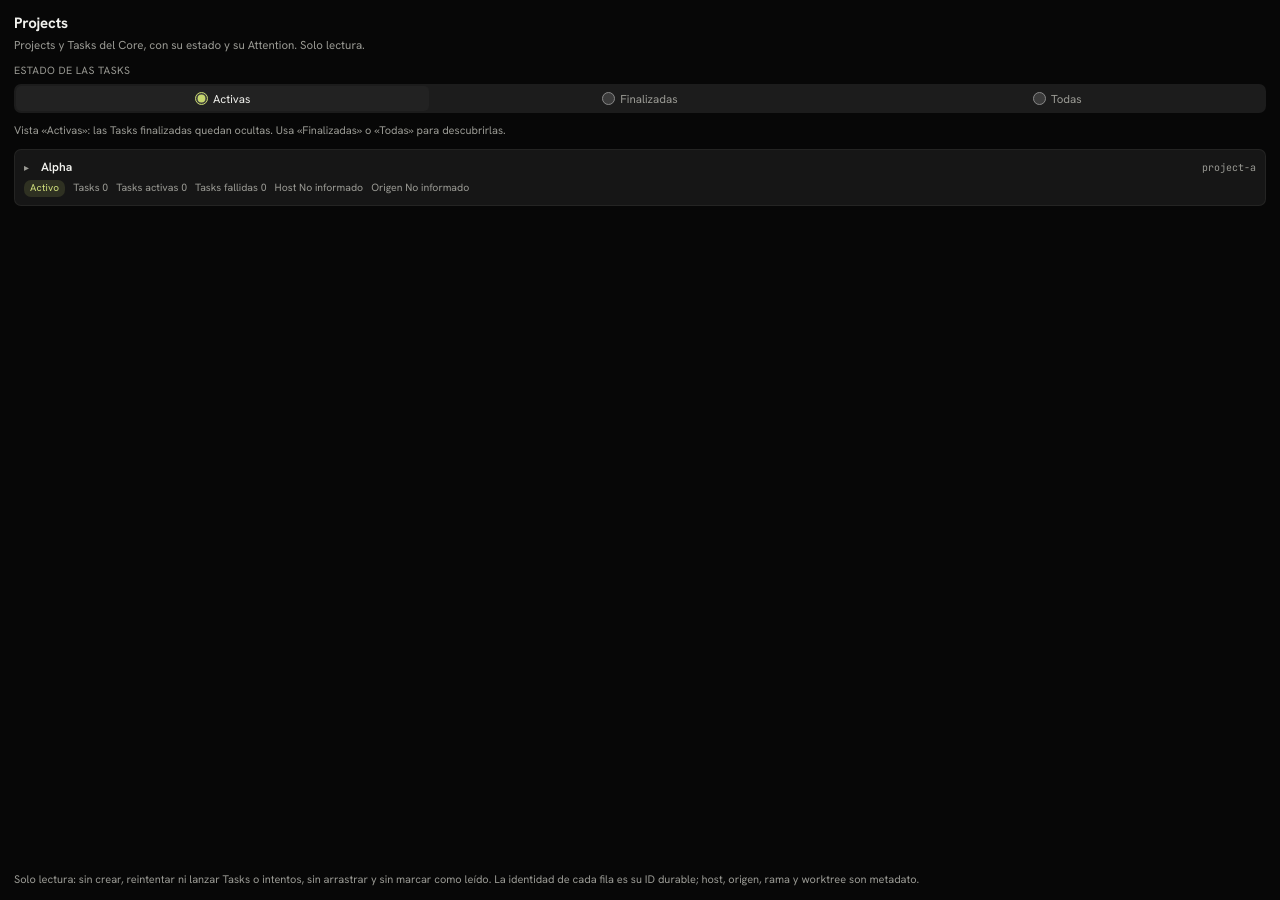
it: ProjectsSidebar › conserva las páginas como stale ante error de reconciliación y reintenta el cursor
Click the text "Alpha".
click(57, 167)  # box [41,159,72,175]
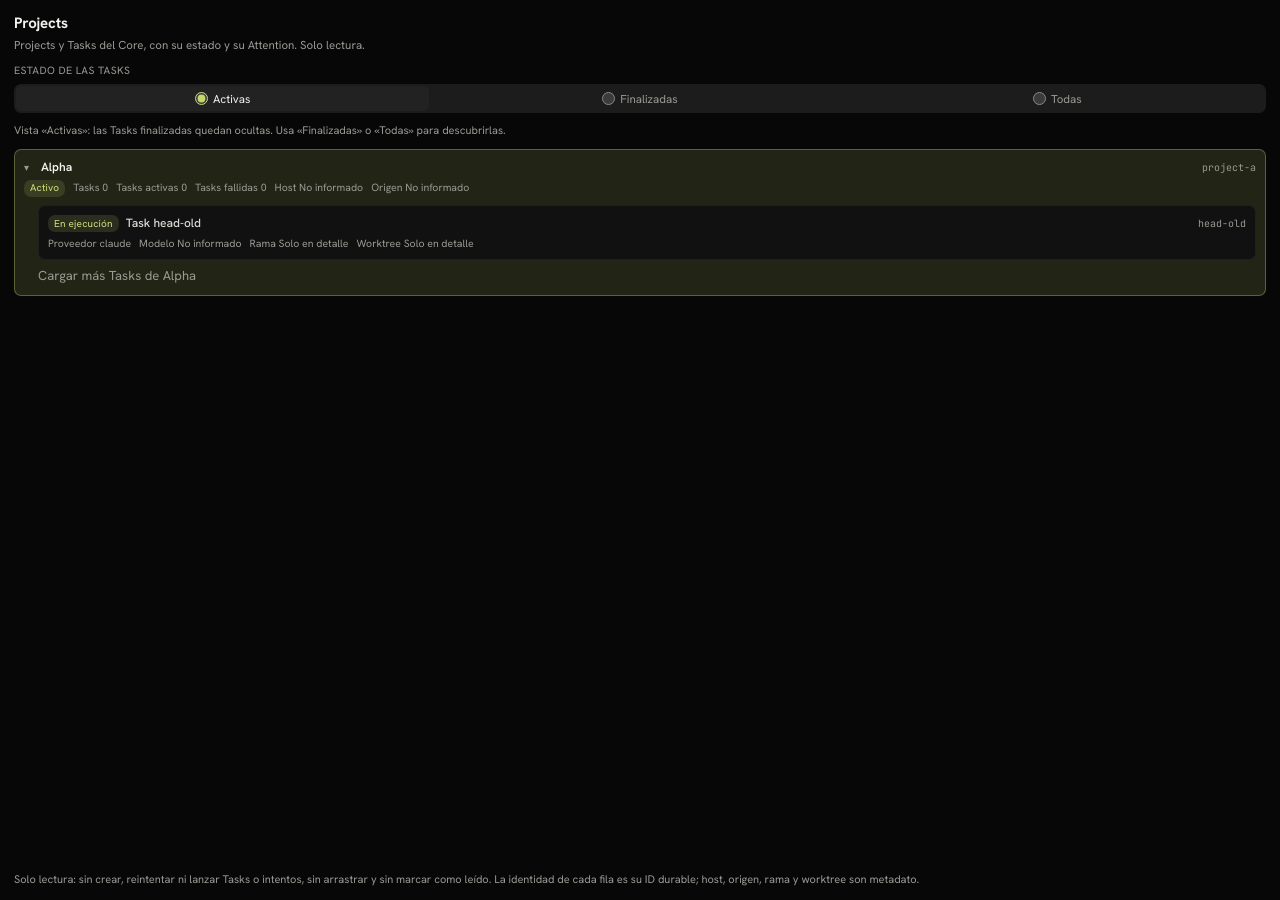
Click the button "Cargar más Tasks de Alpha".
click(117, 276)  # box [38,266,196,285]
Wait 1000 ms
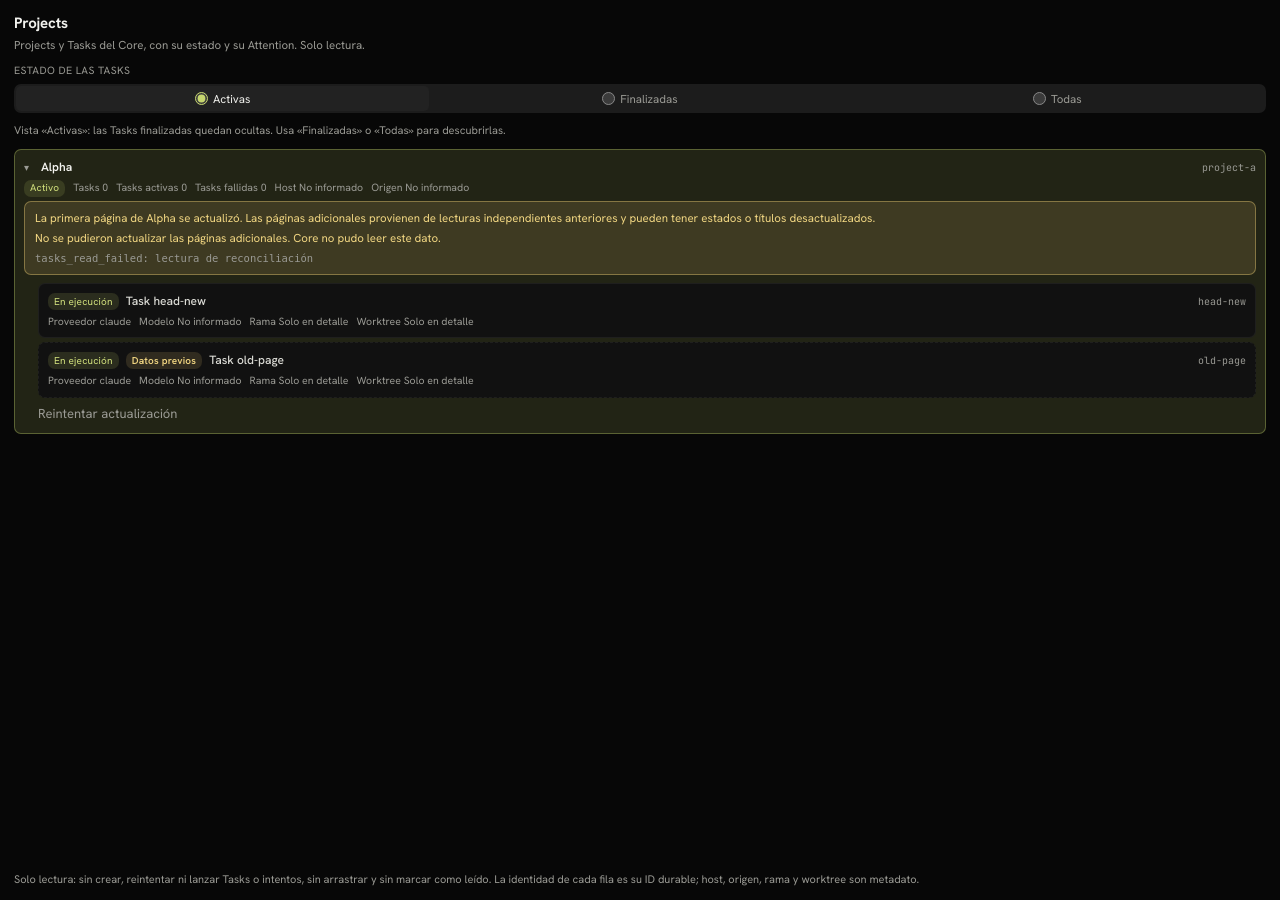
Now the message with test id "stale-task-pages-project-a" shows "tasks_read_failed", box [35,252,313,264]
Now the text "Task old-page" is shown, box [209,352,284,368]
Click the button with aria-label "Reintentar actualización de páginas de Tasks de Alpha".
click(108, 413)  # box [38,404,178,423]
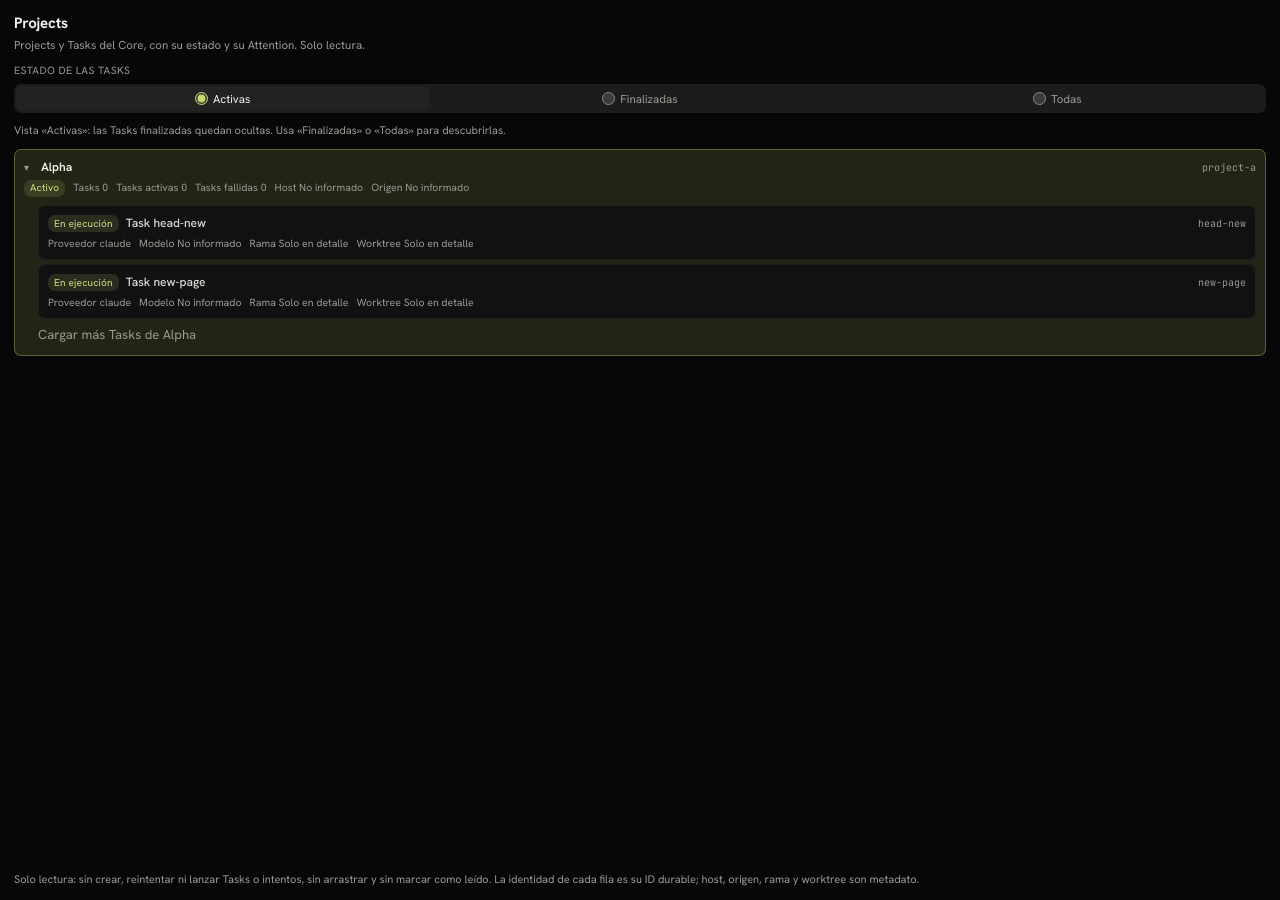
Now the text "Task new-page" is shown, box [126,274,206,290]
Now the text "Task old-page" is gone
Now the message with test id "stale-task-pages-project-a" is gone
